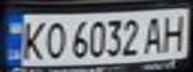0: (87, 18, 106, 58)
2: (121, 16, 145, 56)
3: (106, 16, 127, 57)
6: (66, 18, 90, 60)
A: (142, 13, 169, 55)
H: (160, 11, 190, 53)
K: (15, 17, 48, 62)
O: (39, 18, 69, 61)
